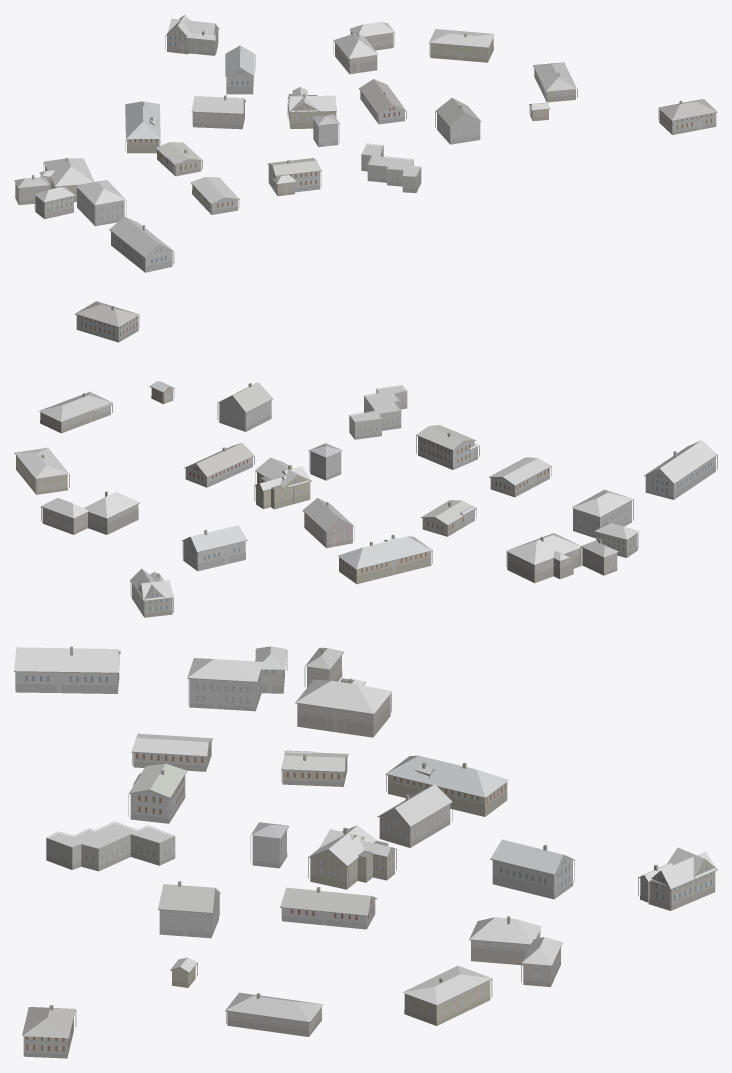
The picture shows the model from 3 angles, top to bottom: view 1: azimuth 30°, elevation 25°; view 2: azimuth 150°, elevation 25°; view 3: azimuth 270°, elevation 25°; orthographic projection. The views are drawn at different scales.
Visible parts, largest first — view 1: bld; view 2: bld; view 3: bld.
Boxes of the visible parts, bbox=[...] form: bld: bbox=[14, 14, 717, 272]; bld: bbox=[14, 301, 717, 617]; bld: bbox=[14, 646, 717, 1058].
Bounding box in the file's own units: 208 × 17.81 × 153.
